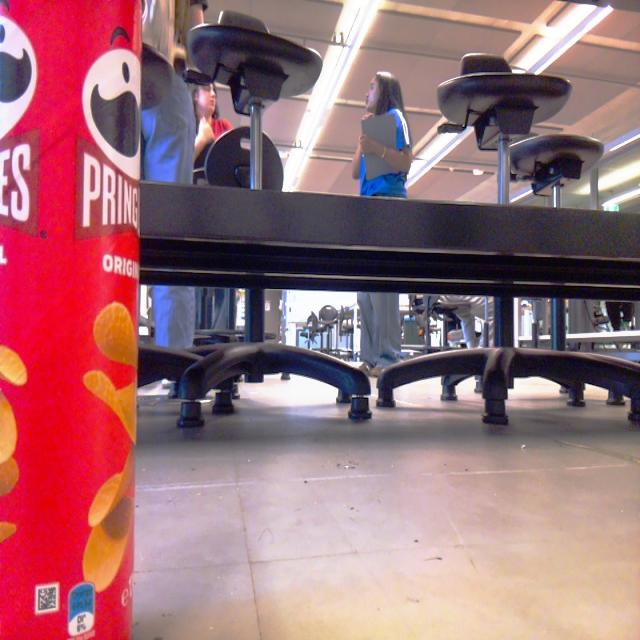redpringles: (1, 3, 152, 640)
